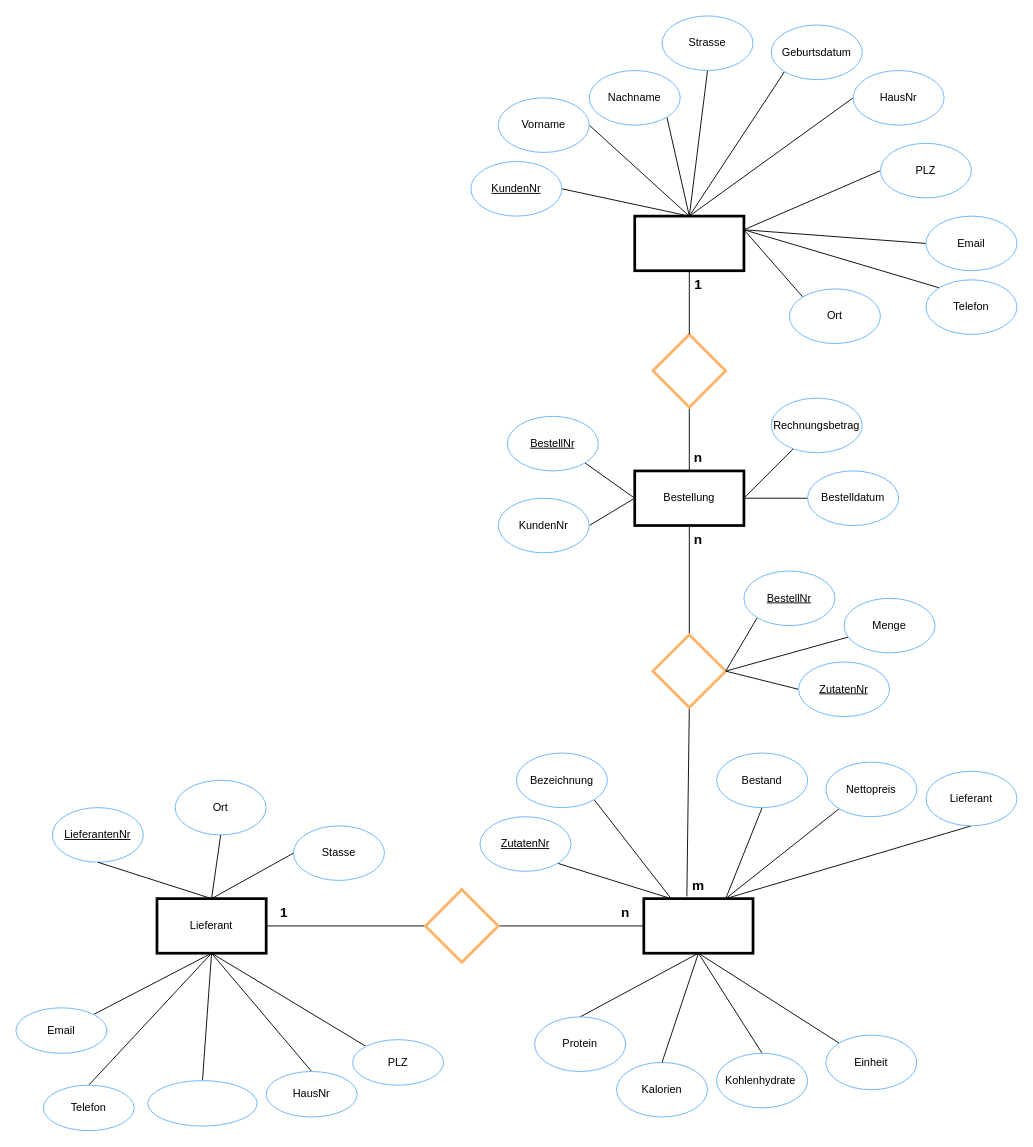
Image size: 1033x1147. Some labels were removed from this diagram. Here are the shapes that lost their labels. From the top down, the centre of each, then its label:
At (689,243): "Kunde".
At (689,370): "tätigt".
At (689,670): "enthält".
At (461,925): "liefert".
At (698,925): "Zutat".
At (202,1103): "Lieferantenname".
